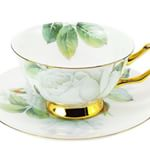cups: (7, 18, 138, 122)
